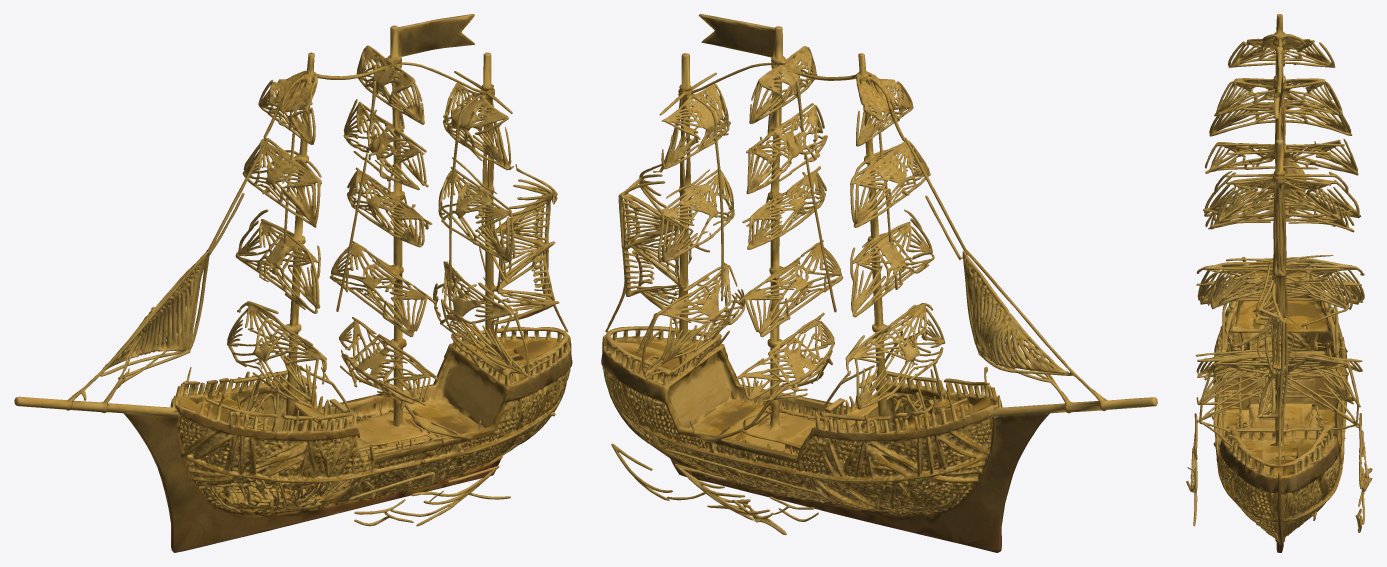
The model's file is thuyen-buom.glb.
3 renders of one model, left to right at view 1: azimuth 30°, elevation 25°; view 2: azimuth 150°, elevation 25°; view 3: azimuth 270°, elevation 25°, orthographic. The views are drawn at different scales.
Bounding box in the file's own units: 1.9 × 1.54 × 0.5678.
1 material, 1 textured.
